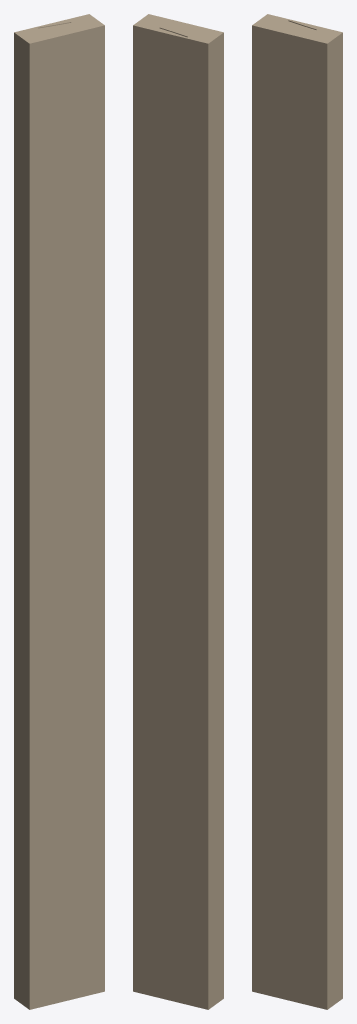
File: T-CAPJIG-MU1.glb
3 renders of one model, left to right at view 1: azimuth 30°, elevation 25°; view 2: azimuth 150°, elevation 25°; view 3: azimuth 330°, elevation 25°, orthographic.
Visible parts, largest first — view 1: geometry_0; view 2: geometry_0; view 3: geometry_0.
Part boxes in pixels (x1,y1,x2,y2): geometry_0: [14, 14, 104, 1009]; geometry_0: [133, 14, 223, 1009]; geometry_0: [252, 14, 342, 1009].
Bounding box in the file's own units: 160 × 1960 × 57.2.
